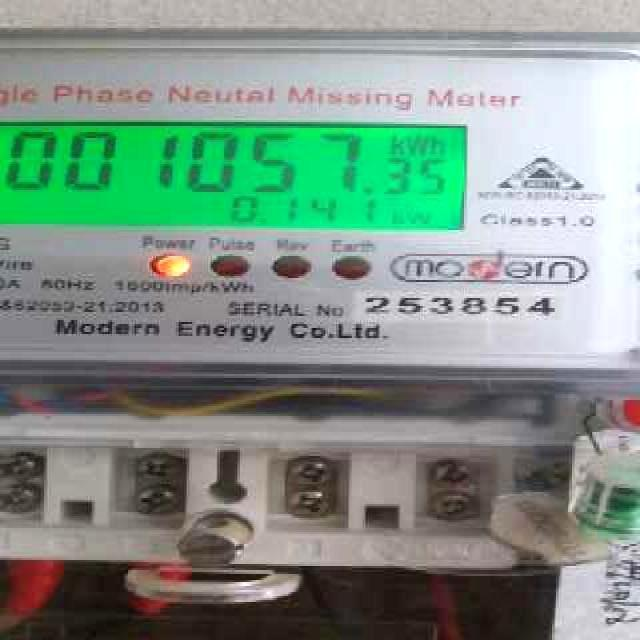LCD: (0, 113, 484, 253)
